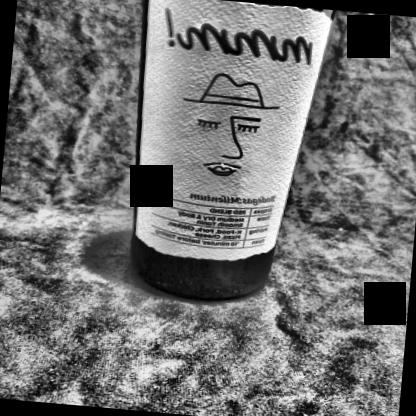umm: (127, 0, 329, 270)
